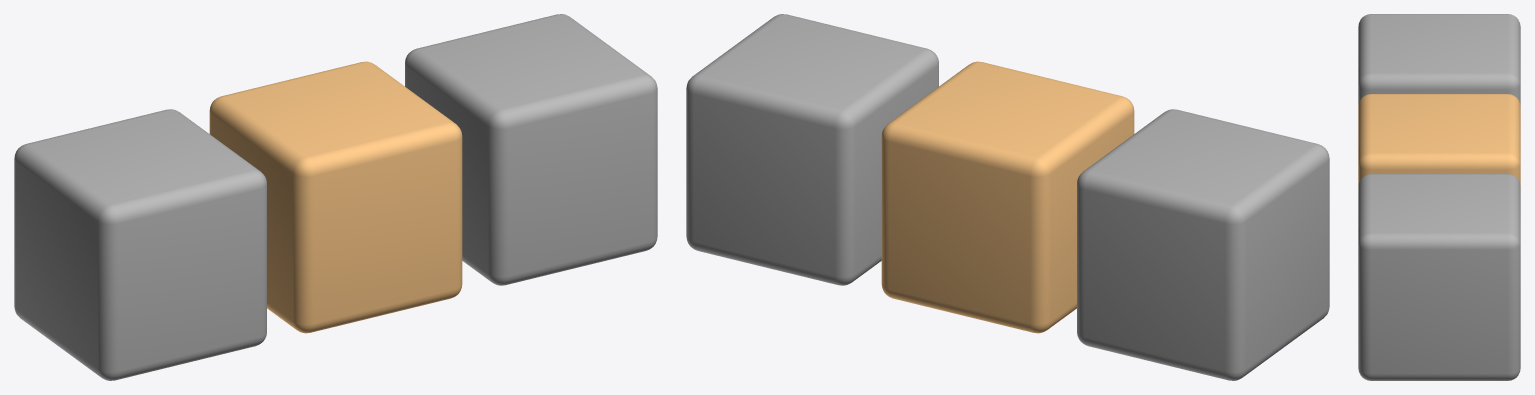
Rendered from triple-cubes-animated-3d-icon-757524580889.glb.
3 renders of one model, left to right at view 1: azimuth 30°, elevation 25°; view 2: azimuth 150°, elevation 25°; view 3: azimuth 270°, elevation 25°, orthographic. The views are drawn at different scales.
Visible parts, largest first — view 1: Cube, Cube.001, Cube.002; view 2: Cube, Cube.001, Cube.002; view 3: Cube.002, Cube, Cube.001.
Boxes of the visible parts, <box> form: Cube: <box>14,109,266,380</box>; Cube.001: <box>209,61,462,333</box>; Cube.002: <box>405,14,657,285</box>; Cube: <box>1077,109,1329,380</box>; Cube.001: <box>881,61,1134,333</box>; Cube.002: <box>686,14,938,285</box>; Cube.002: <box>1358,174,1520,380</box>; Cube: <box>1358,14,1520,105</box>; Cube.001: <box>1358,94,1520,185</box>.
Size of the model in its own units: 2 by 0.6 by 0.6.
